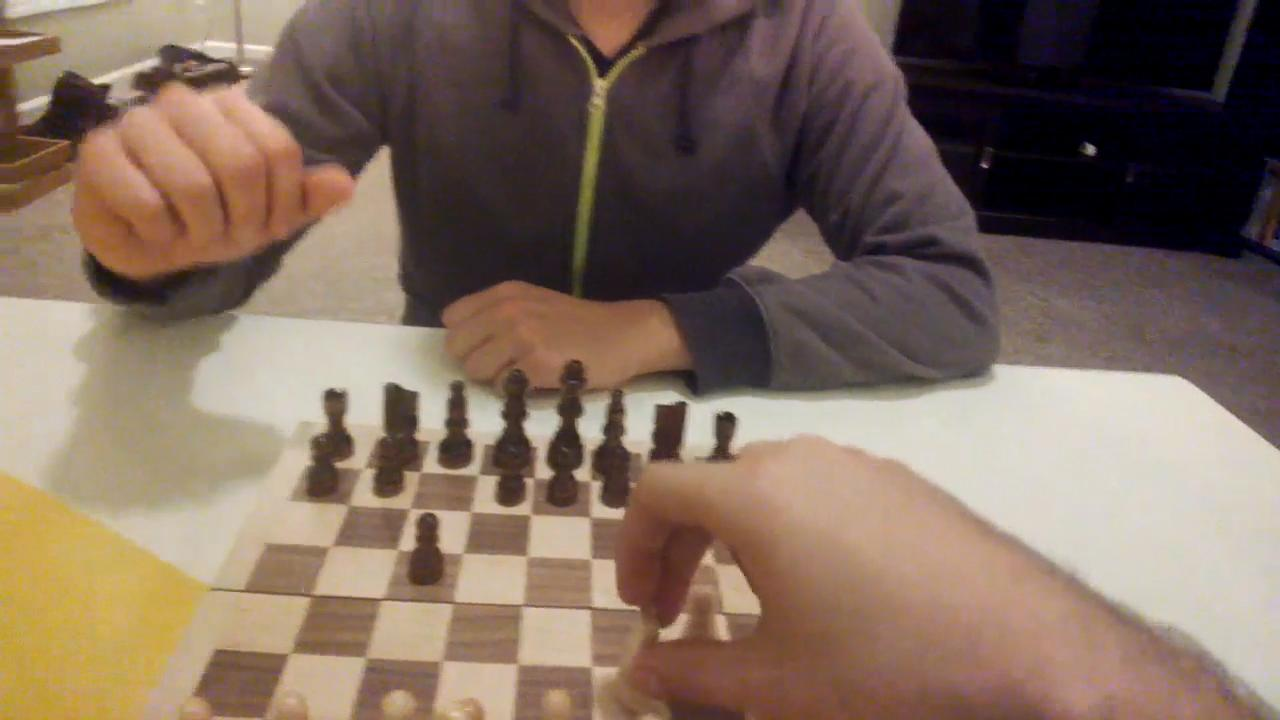hand: (621, 436, 1069, 717), (66, 79, 363, 290), (430, 265, 649, 411)
